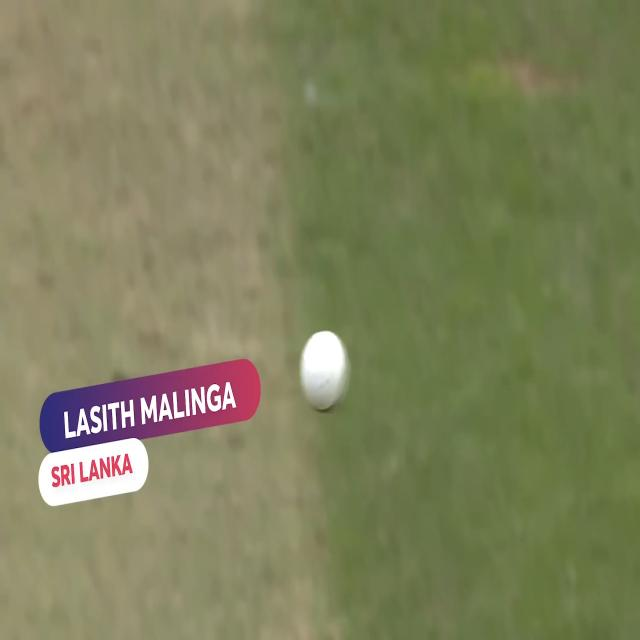ball: (296, 323, 358, 414)
